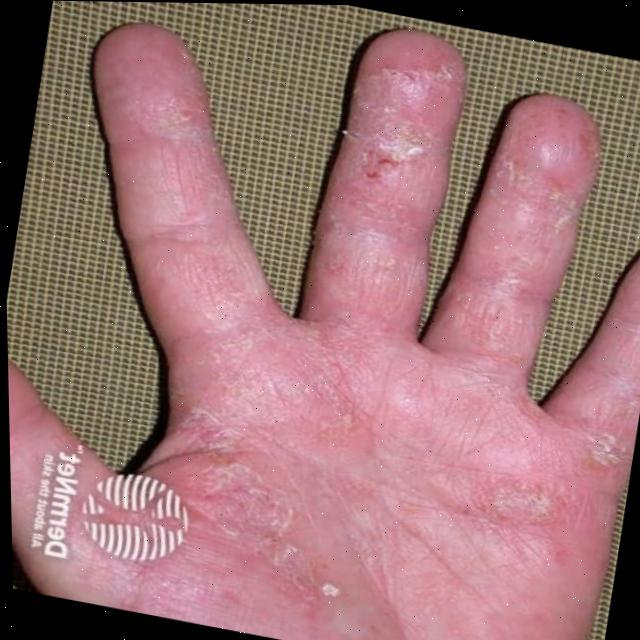Eczema: (60, 39, 640, 620)
